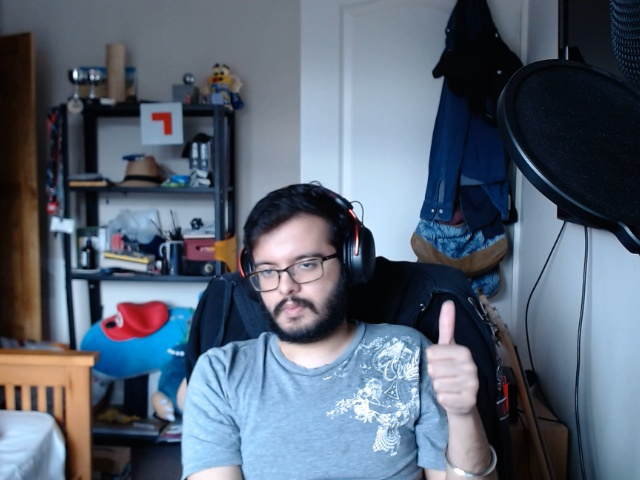Thumbs up: (419, 291, 489, 410)
